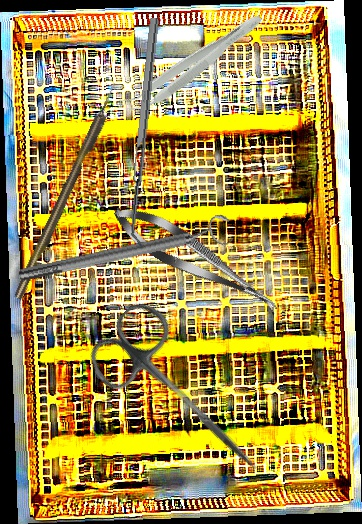Fixation Ring: (15, 211, 235, 292)
Hook Surgical: (11, 81, 123, 301)
Iris Scissors: (79, 294, 290, 499)
Micro Scissor: (105, 195, 288, 325)
Spatula Surgical: (125, 17, 169, 250)
Tissue Forceps: (118, 3, 267, 123)
